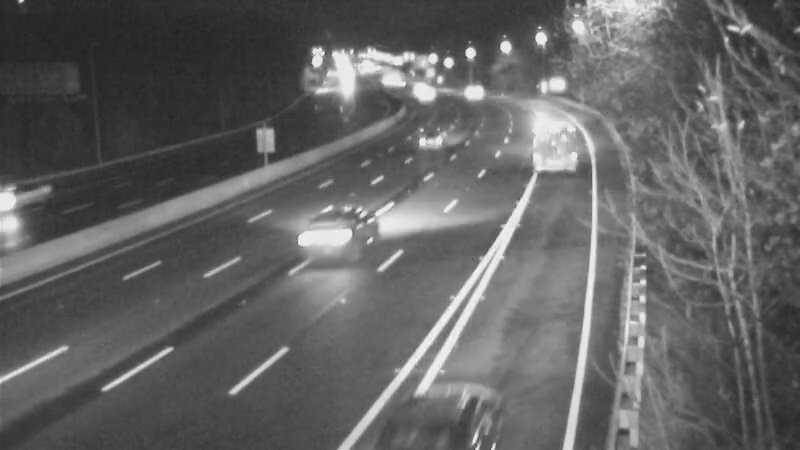vehicle: (379, 358, 489, 450), (509, 111, 589, 191), (284, 197, 364, 277), (1, 159, 68, 239), (454, 67, 504, 117), (404, 70, 454, 120), (399, 110, 449, 160)
